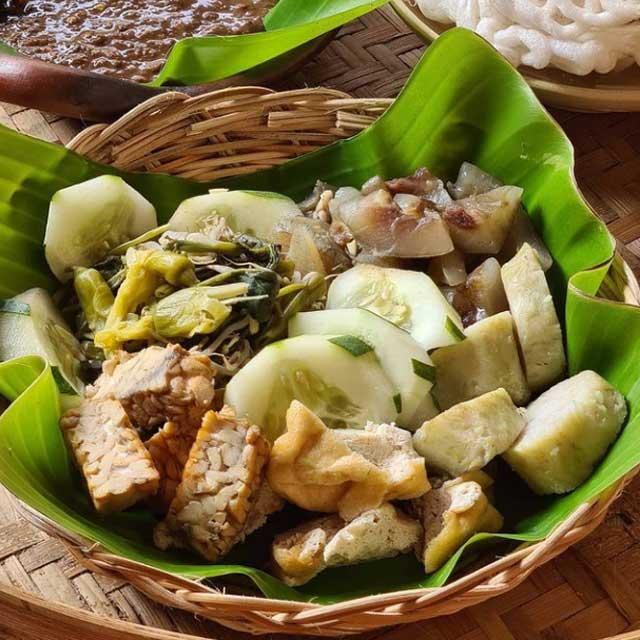rujak_cingur: (2, 175, 630, 585)
